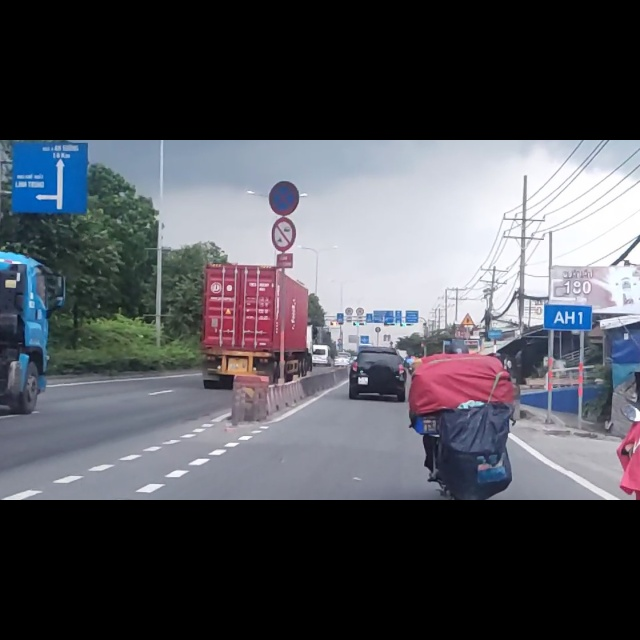bien_hieu_lenh: (269, 72, 299, 133), (270, 136, 297, 197)
